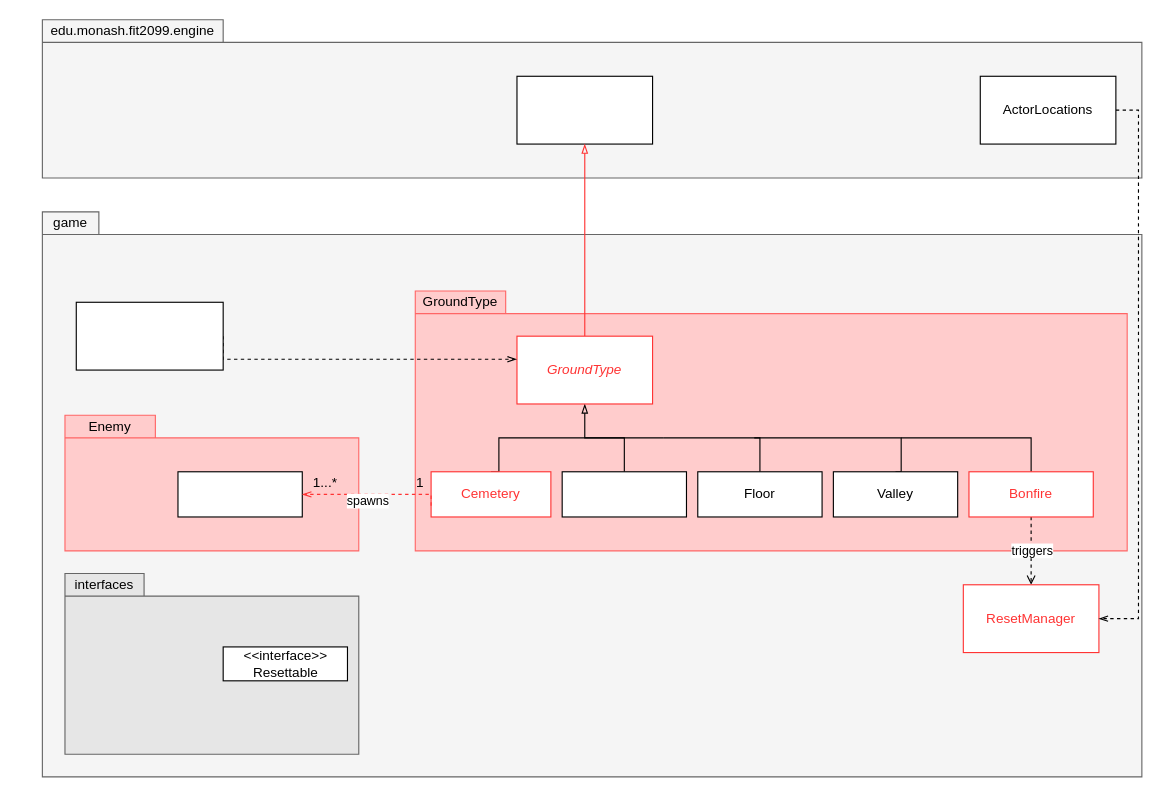
The diagram is 1167 pixels wide and 797 high, and some of its shapes have lost their labels. Here are the shapes that lost their labels. From the top down, the centre of each, then its label:
point 584,109: Ground
point 149,335: Application
point 239,494: Undead
point 623,494: Dirt
